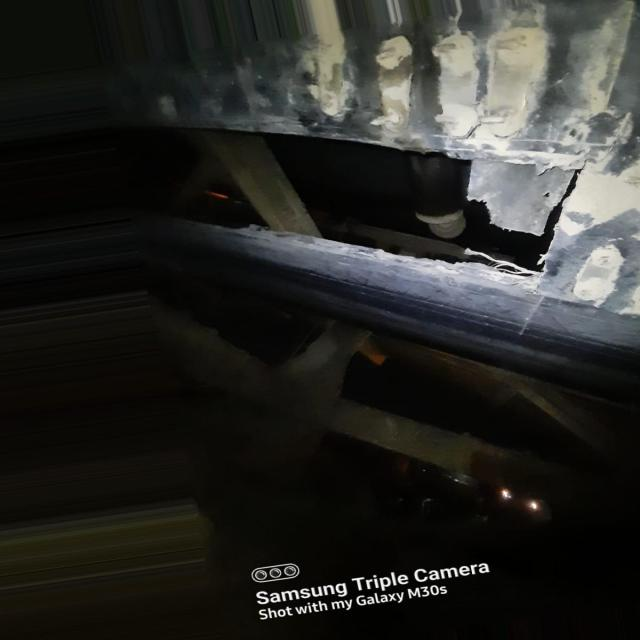Hole: (139, 123, 580, 275)
